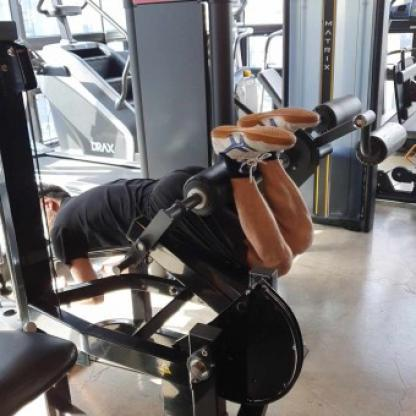reg curl machine: (0, 18, 410, 416)
